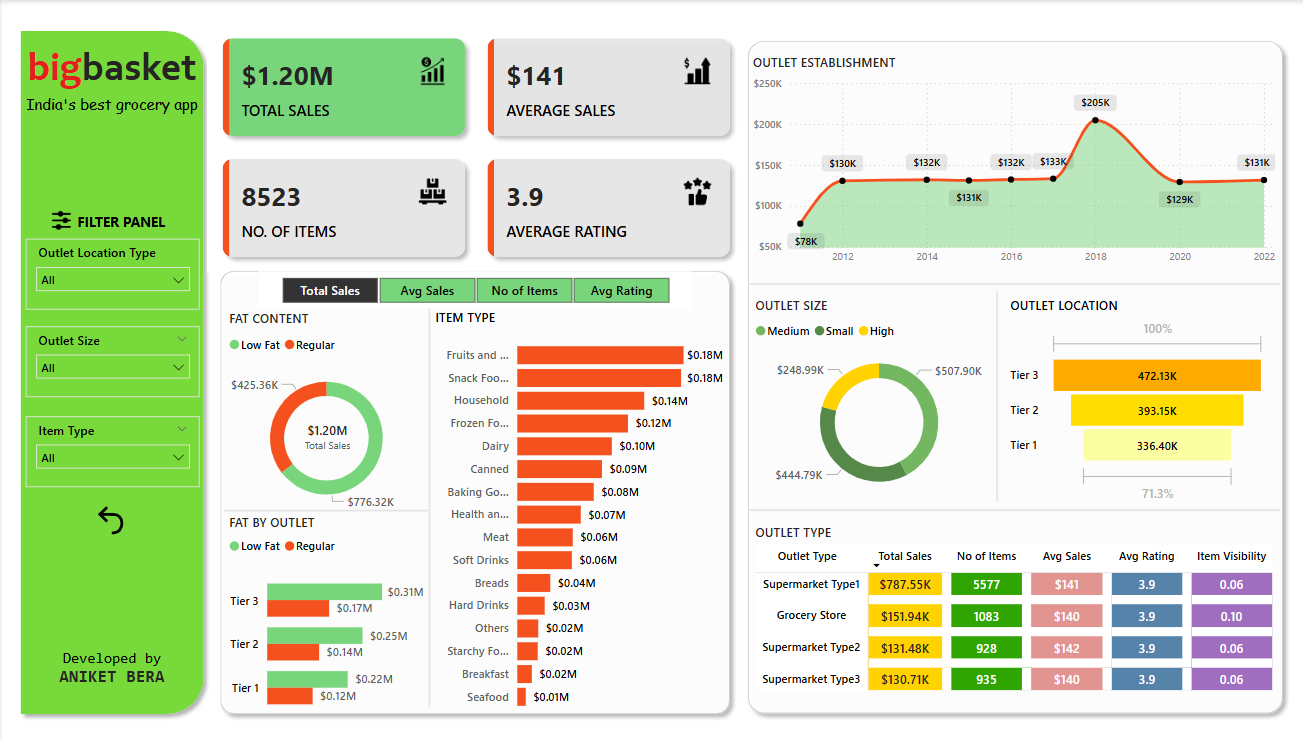

Layout of this report page (visuals, bound fields, positions):
{"tool":"powerbi","page":{"name":"Page 1","canvas":[1400,800],"ordinal":0},"visuals":[{"type":"shape","box":[10.7,24.1,214.5,750.7],"z":0},{"type":"textbox","box":[16.1,40.2,203.8,65.7],"z":1000},{"type":"textbox","box":[14.7,95.2,206.4,41.6],"z":2000},{"type":"cardVisual","fields":{"Data":["Grocery Data.Total Sales","Grocery Data.Avg Sales","Grocery Data.No of Items","Grocery Data.Avg Rating"]},"box":[220.3,24.3,579.7,268.9],"z":3000},{"type":"shape","box":[225.2,281.5,564.3,493.3],"z":4000},{"type":"donutChart","title":"FAT CONTENT","fields":{"Y":["Grocery Data.Total Sales"],"Category":["Grocery Data.Item Fat Content"]},"box":[239.2,332.4,218.9,229.7],"z":5000},{"type":"slicer","fields":{"Values":["Matrics.Matrics"]},"box":[275,291.2,465,40],"z":6000},{"type":"cardVisual","fields":{"Data":["Grocery Data.Total Sales"]},"box":[301.2,436.2,95,62.5],"z":7000},{"type":"clusteredBarChart","title":"FAT BY OUTLET","fields":{"Y":["Grocery Data.Total Sales"],"Series":["Grocery Data.Item Fat Content"],"Category":["Grocery Data.Outlet Location Type"]},"box":[239.2,551.4,218.9,229.7],"z":8000},{"type":"shape","box":[238.8,528.8,220,38.8],"z":9000},{"type":"shape","box":[348.8,331.2,220,427.5],"z":10000},{"type":"barChart","title":"ITEM TYPE","fields":{"Y":["Grocery Data.Total Sales"],"Category":["Grocery Data.Item Type"]},"box":[460,331.2,318.8,441],"z":11000},{"type":"shape","box":[790.5,35.1,591.9,739.2],"z":12000},{"type":"lineChart","title":"OUTLET ESTABLISHMENT","fields":{"Y":["Grocery Data.Total Sales"],"Category":["Grocery Data.Outlet Establishment Year"]},"box":[800,58.1,570.3,235.1],"z":13000},{"type":"shape","box":[800,285.1,570.3,37.8],"z":14000},{"type":"donutChart","title":"OUTLET SIZE","fields":{"Y":["Grocery Data.Total Sales"],"Category":["Grocery Data.Outlet Size"]},"box":[802.7,317.6,275.7,225.7],"z":15000},{"type":"shape","box":[956.8,312.2,220.3,225.7],"z":16000},{"type":"funnel","title":"OUTLET LOCATION","fields":{"Y":["Sum(Grocery Data.Sales)"],"Category":["Grocery Data.Outlet Location Type"]},"box":[1077,317.6,283.8,227],"z":17000},{"type":"shape","box":[800,528.4,570.3,37.8],"z":18000},{"type":"pivotTable","title":"OUTLET TYPE","fields":{"Rows":["Grocery Data.Outlet Type"],"Values":["Grocery Data.Total Sales","Grocery Data.No of Items","Grocery Data.Avg Sales","Grocery Data.Avg Rating","Avg(Grocery Data.Item Visibility)"]},"box":[802.7,562.2,568.9,201.4],"z":19000},{"type":"slicer","fields":{"Values":["Grocery Data.Outlet Location Type"]},"box":[25.7,255.4,186.5,75.7],"z":20000},{"type":"slicer","fields":{"Values":["Grocery Data.Outlet Size"]},"box":[25.7,350,186.5,75.7],"z":21000},{"type":"slicer","fields":{"Values":["Grocery Data.Item Type"]},"box":[25.7,445.9,186.5,75.7],"z":22000},{"type":"textbox","box":[71.7,223,113.5,32.4],"z":22001},{"type":"image","box":[47.4,217.6,33.8,37.8],"z":22002},{"type":"actionButton","box":[95.9,537.8,43.2,40.5],"z":22003},{"type":"textbox","box":[47.3,691.9,141.9,55.4],"z":22004}]}

Visuals, with their boxes in screenshot pixels (x1, y1, x2, y2), scaled from the page's 1400x800 canvas onto the 1303x740 screenshot:
shape: 10:22:210:717
textbox: 15:37:205:98
textbox: 14:88:206:127
cardVisual - Grocery Data.Total Sales x Grocery Data.Avg Sales: 205:22:745:271
shape: 210:260:735:717
"FAT CONTENT" donutChart: 223:307:426:520
slicer - Matrics.Matrics: 256:269:689:306
cardVisual - Grocery Data.Total Sales: 280:403:369:461
"FAT BY OUTLET" clusteredBarChart: 223:510:426:723
shape: 222:489:427:525
shape: 325:306:529:702
"ITEM TYPE" barChart: 428:306:725:714
shape: 736:32:1287:716
"OUTLET ESTABLISHMENT" lineChart: 745:54:1275:271
shape: 745:264:1275:299
"OUTLET SIZE" donutChart: 747:294:1004:503
shape: 891:289:1096:498
"OUTLET LOCATION" funnel: 1002:294:1267:504
shape: 745:489:1275:524
"OUTLET TYPE" pivotTable: 747:520:1277:706
slicer - Grocery Data.Outlet Location Type: 24:236:197:306
slicer - Grocery Data.Outlet Size: 24:324:197:394
slicer - Grocery Data.Item Type: 24:412:197:482
textbox: 67:206:172:236
image: 44:201:76:236
actionButton: 89:497:129:535
textbox: 44:640:176:691
